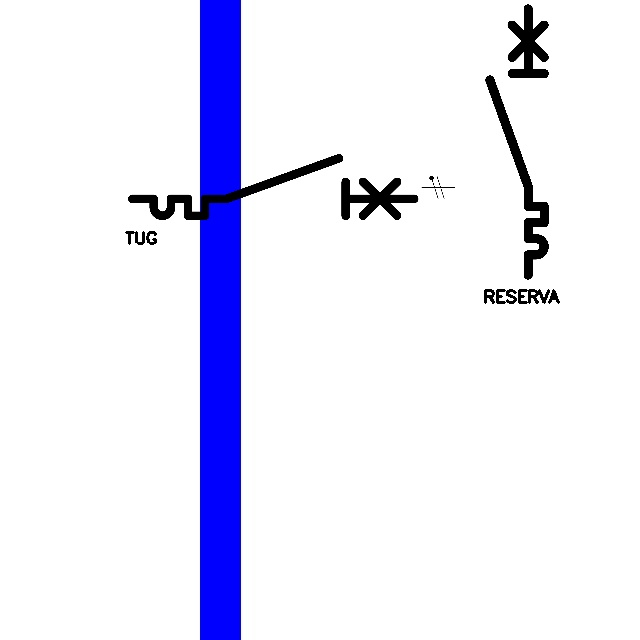interruptor_termomagnetico: (125, 151, 422, 223), (483, 2, 551, 282)
